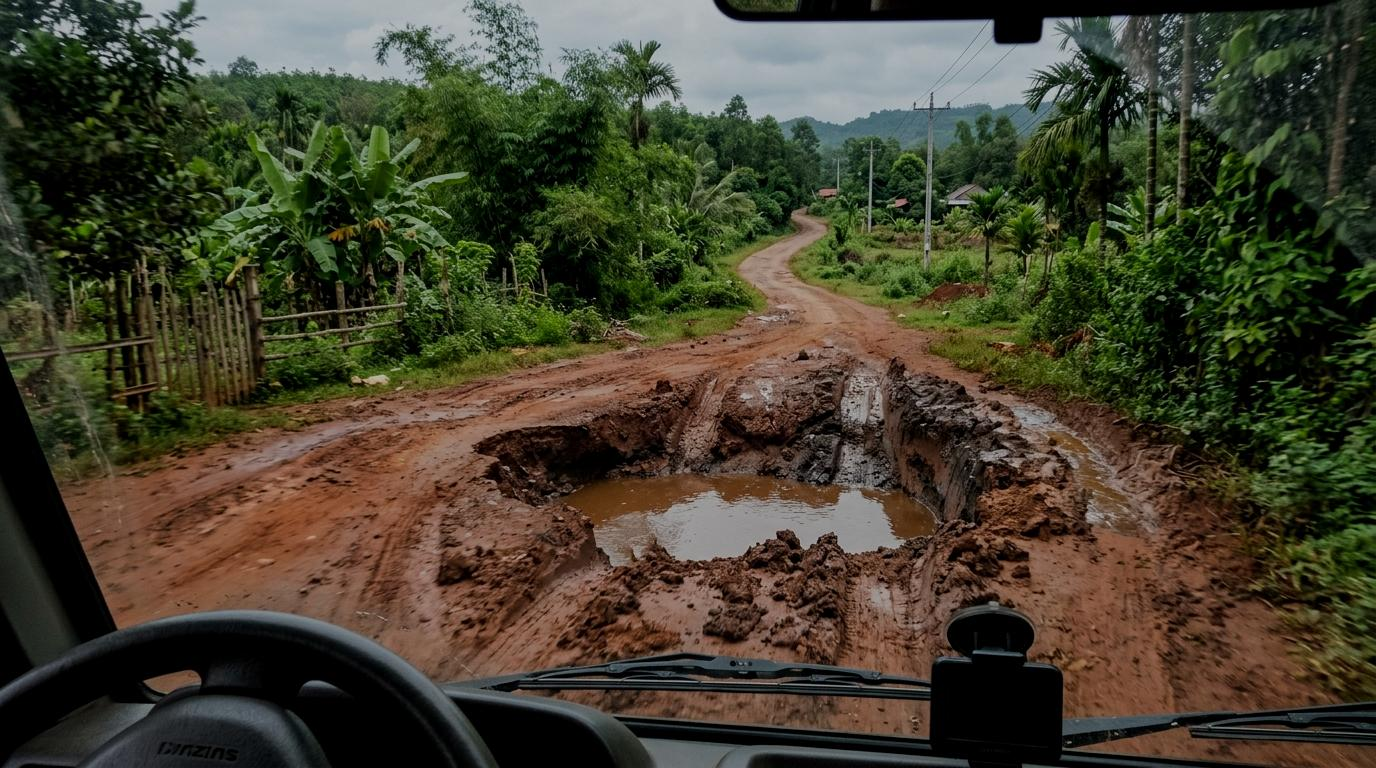POTHOLE: (406, 388, 956, 618)
